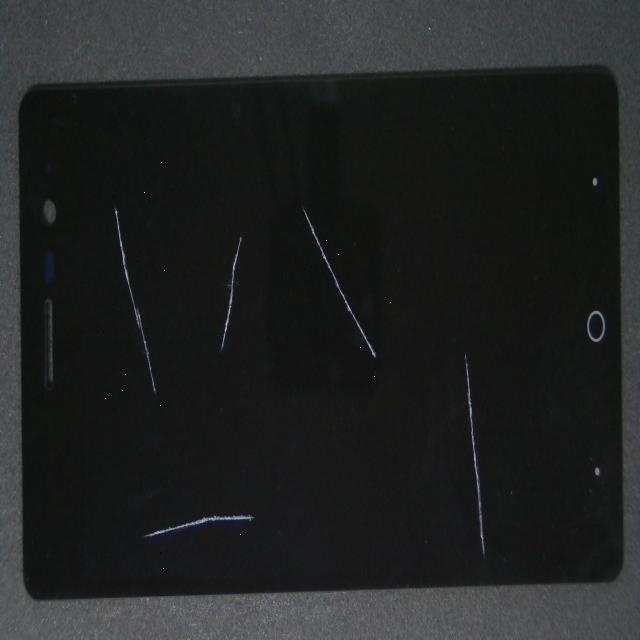scratch: (187, 189, 561, 568), (28, 0, 178, 412), (72, 248, 202, 640)
